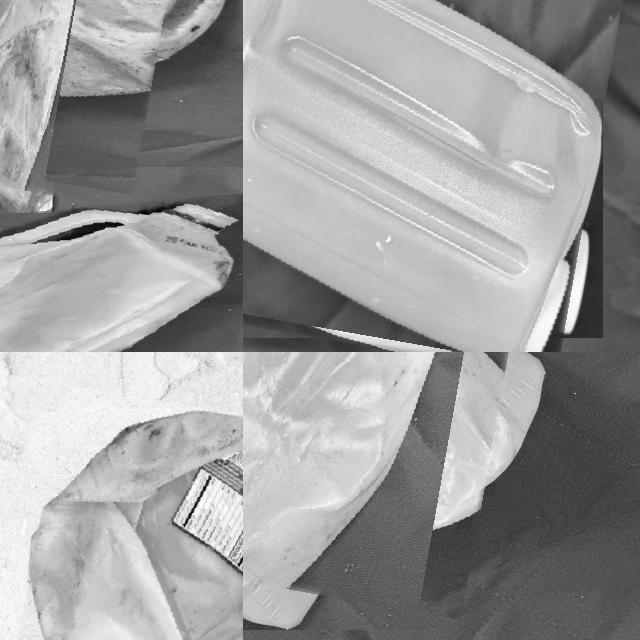milk-jug: (243, 0, 609, 352), (243, 352, 519, 601), (14, 396, 243, 640), (0, 202, 243, 352), (0, 0, 174, 194)
